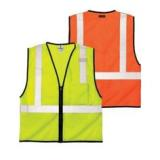Vest: (19, 40, 103, 143), (67, 9, 142, 109)
